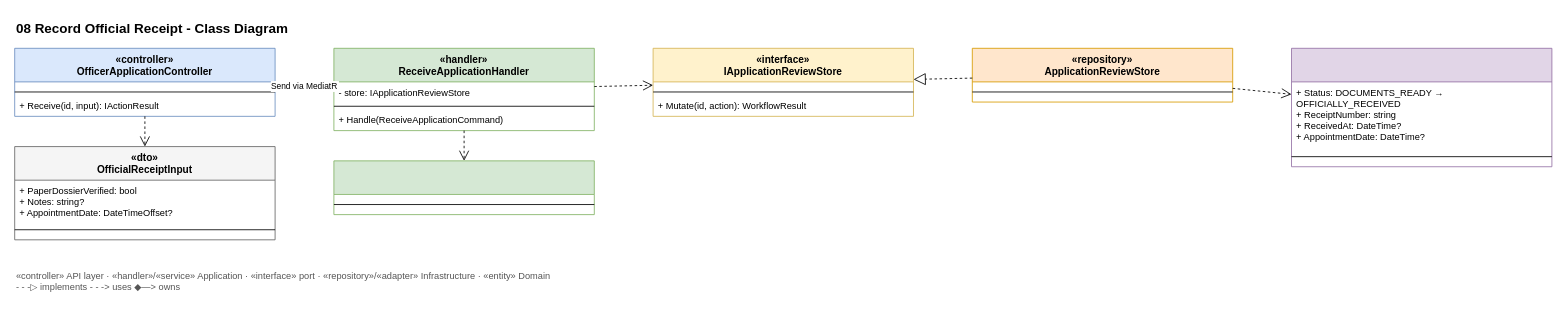
Image size: 1567x312. Some labels were removed from this diagram. The box of each missing label's shape, as (x1, y1, x2, y2) in pixels:
«entity» ApplicationRecord: (1291, 47, 1552, 167)
«validator» ReceiveApplicationValidator: (333, 160, 594, 215)
